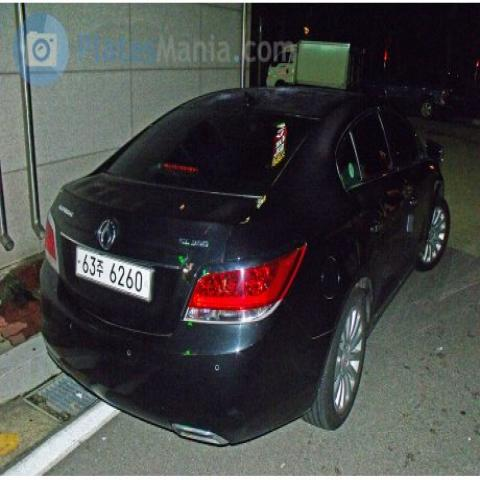LP: (67, 240, 155, 307)
